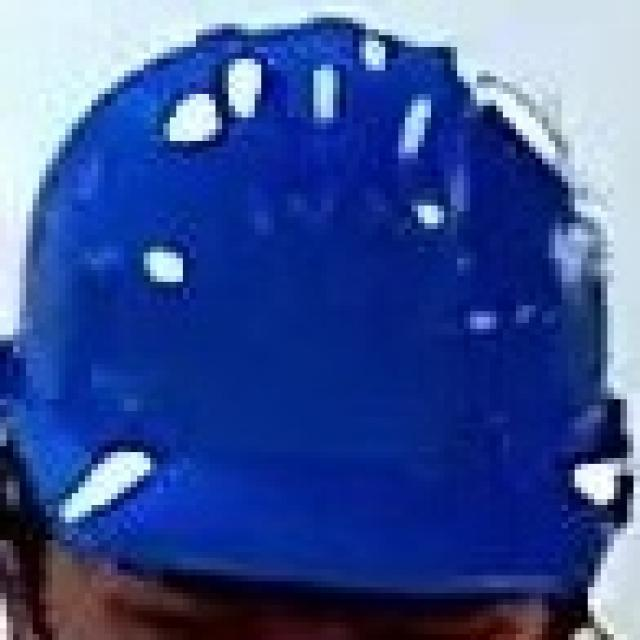helmet: (0, 18, 630, 631)
